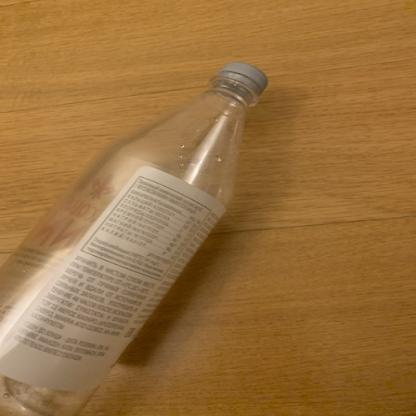trash: (0, 61, 274, 413)
